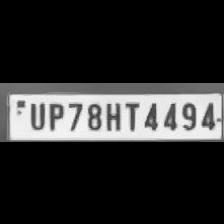4: (198, 98, 218, 130), (142, 98, 160, 130), (159, 98, 177, 130)
7: (64, 98, 82, 132)
8: (83, 99, 103, 130)
9: (178, 98, 198, 130)
H: (103, 98, 123, 130)
P: (45, 99, 65, 130)
T: (122, 98, 140, 130)
U: (26, 99, 46, 129)
